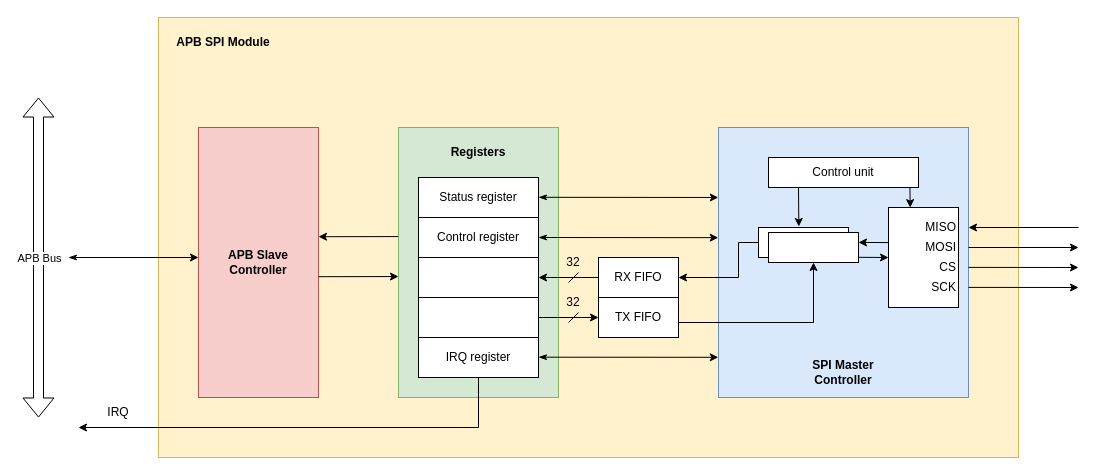
Some shapes in this 1104 by 475 pixel diagram are drawn without their labels. The centre of each missing label's shape, as x and y in pixels:
"RX register" goes at point 478,277.
"Shift register" goes at point 813,247.
"TX register" goes at point 478,317.
